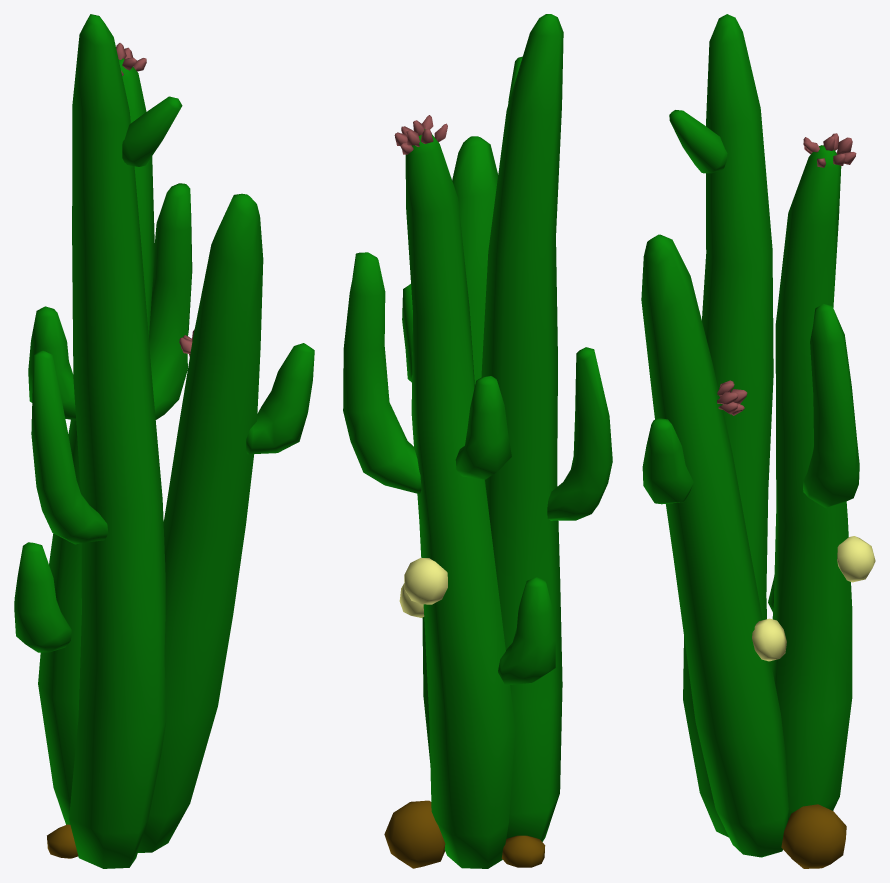
File: Cactus_Tall_03.fbx
The picture shows the model from 3 angles, left to right: view 1: azimuth 30°, elevation 25°; view 2: azimuth 150°, elevation 25°; view 3: azimuth 270°, elevation 25°; orthographic projection. The views are drawn at different scales.
Visible parts, largest first — view 1: Cactus_Tall_03; view 2: Cactus_Tall_03; view 3: Cactus_Tall_03.
Part boxes in pixels (x1,y1,x2,y2): Cactus_Tall_03: (14, 14, 314, 868); Cactus_Tall_03: (343, 14, 612, 868); Cactus_Tall_03: (641, 14, 875, 868).
Size of the model in its own units: 1.13 by 3.84 by 1.01.
